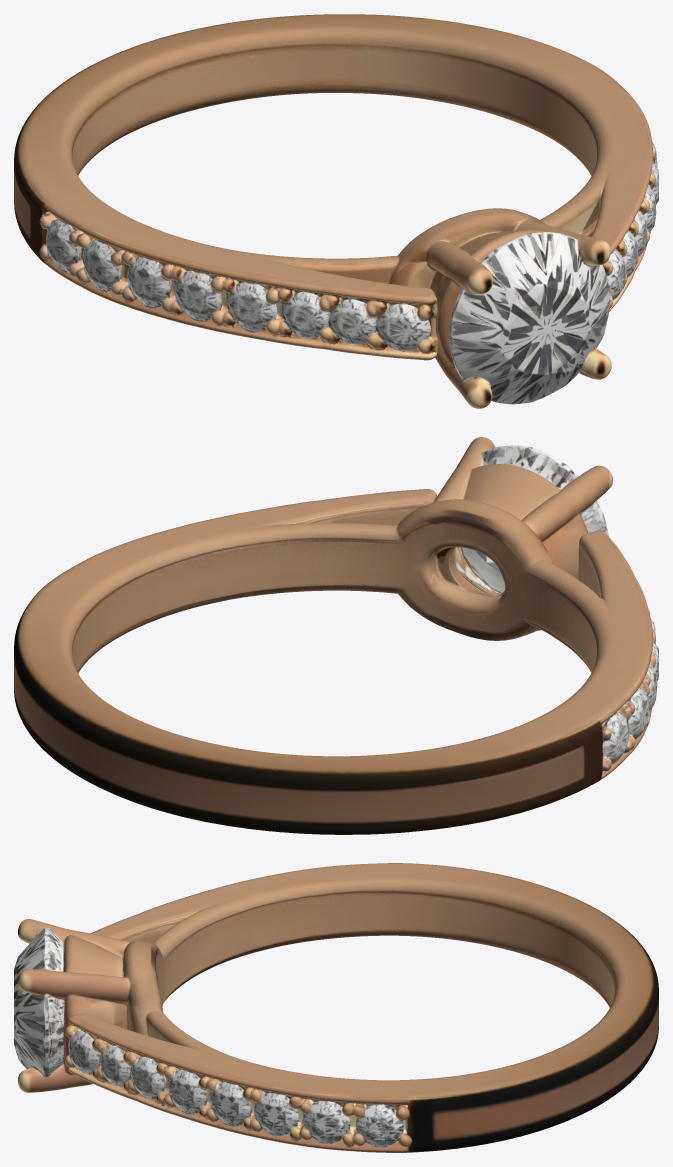
File: shay-ring-hi.glb
The picture shows the model from 3 angles, top to bottom: view 1: azimuth 30°, elevation 25°; view 2: azimuth 150°, elevation 25°; view 3: azimuth 270°, elevation 25°; orthographic projection. The views are drawn at different scales.
Size of the model in its own units: 1.69 by 0.4732 by 1.9.
1 material, 1 textured.
